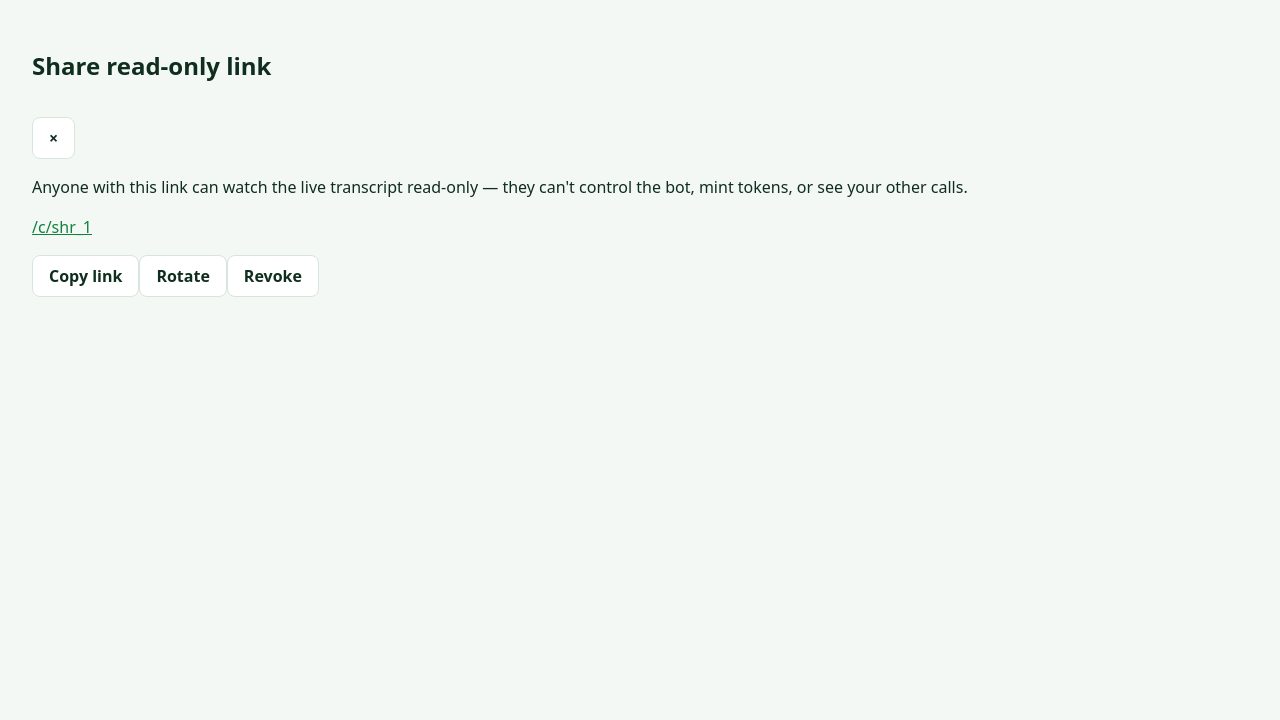
ShareModal — owner share-link control (SPEC §4.1, §5.7, Story 2) › revokes the link and returns to the empty state
Expected: the link "/c/shr_1" is shown, [32,216,92,238]
Click the button "Revoke": (273,276) [227,255,319,297]
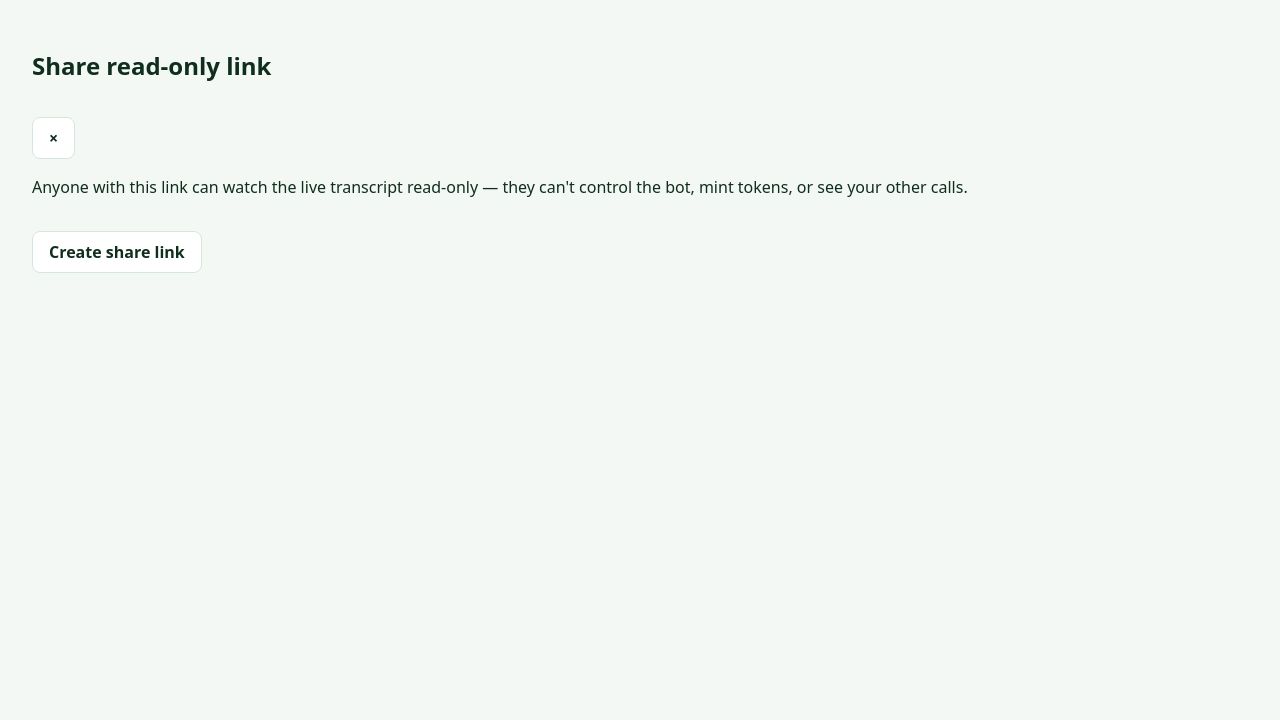
Now the button "Create share link" is shown, box [32,231,202,273]
